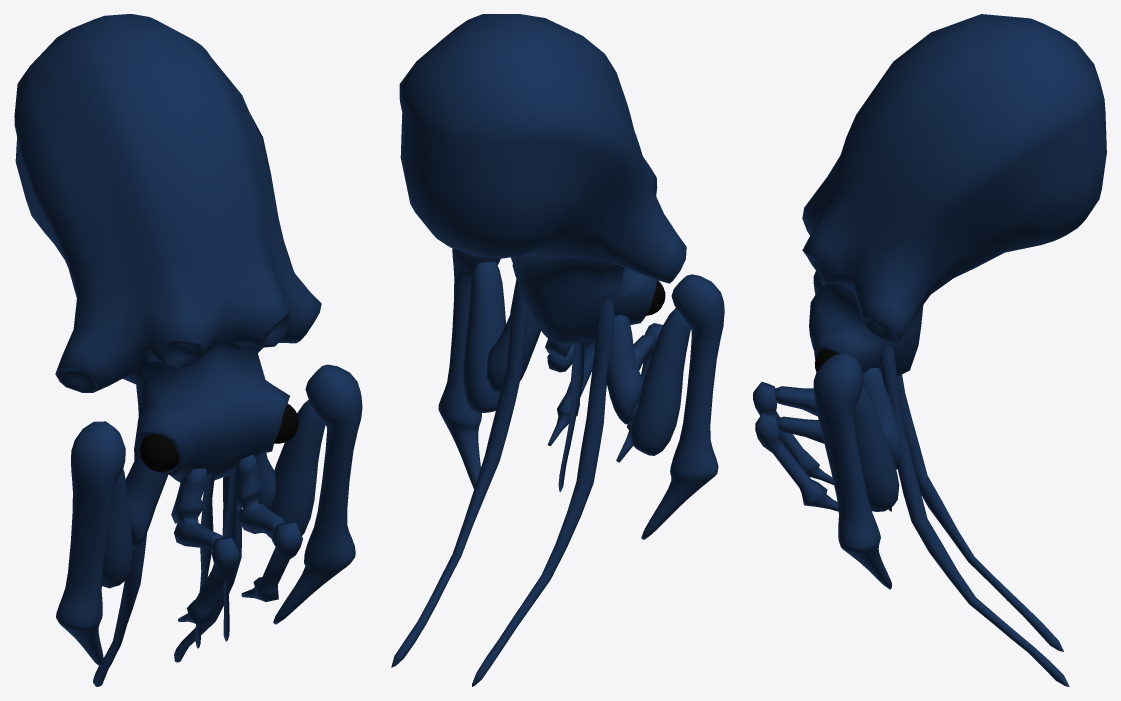
Rendered from Alien_Cephalocorax.obj.
3 renders of one model, left to right at view 1: azimuth 30°, elevation 25°; view 2: azimuth 150°, elevation 25°; view 3: azimuth 270°, elevation 25°, orthographic. The views are drawn at different scales.
Visible parts, largest first — view 1: Cephalocorax; view 2: Cephalocorax; view 3: Cephalocorax.
Boxes of the visible parts, <box> form: Cephalocorax: <box>14,14,362,686</box>; Cephalocorax: <box>391,14,724,686</box>; Cephalocorax: <box>753,14,1106,686</box>.
Bounding box in the file's own units: 1.35 × 2.99 × 1.53.
